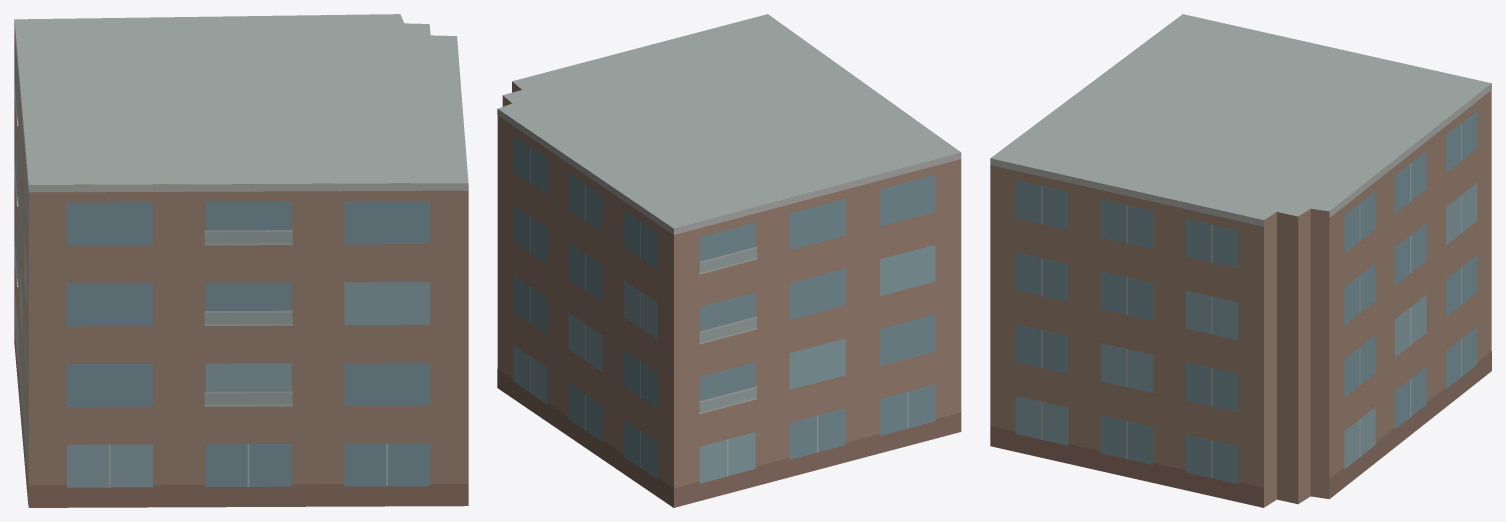
File: survey-upis-32974926.glb
3 views of the same model, side by side, from view 1: azimuth 30°, elevation 25°; view 2: azimuth 150°, elevation 25°; view 3: azimuth 270°, elevation 25° (orthographic). The views are drawn at different scales.
Parts seen in each view (by area): view 1: survey-upis-32974926.tmp; view 2: survey-upis-32974926.tmp; view 3: survey-upis-32974926.tmp.
Part boxes in pixels (x1,y1,x2,y2): survey-upis-32974926.tmp: (14,14,468,507); survey-upis-32974926.tmp: (497,14,961,507); survey-upis-32974926.tmp: (990,14,1491,507).
Bounding box in the file's own units: 16.14 × 10.5 × 16.59.
